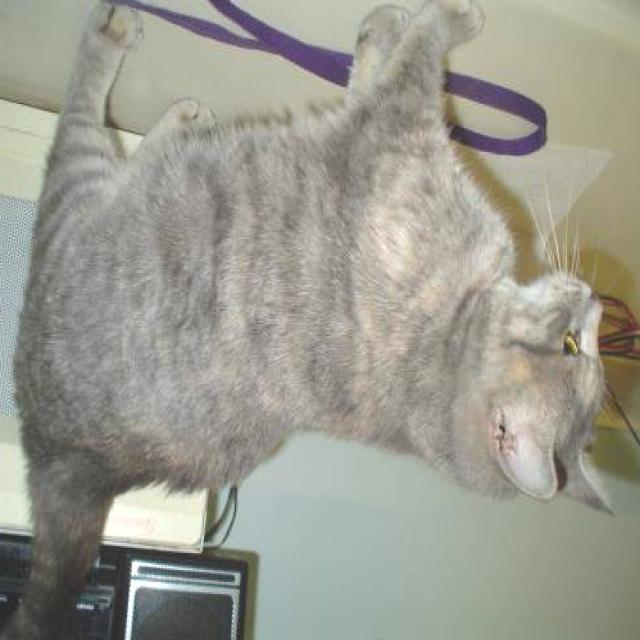Kucing: (15, 22, 636, 564)
